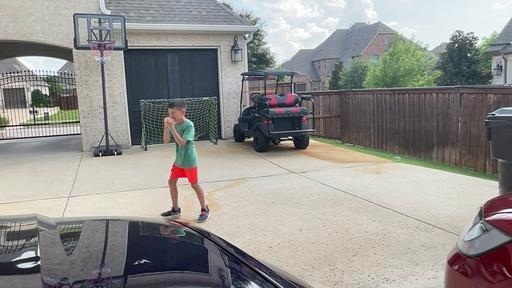ball: (160, 99, 210, 224)
rim: (86, 38, 116, 62)
